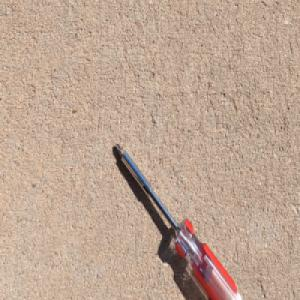Screwdriver: (114, 141, 244, 300)
